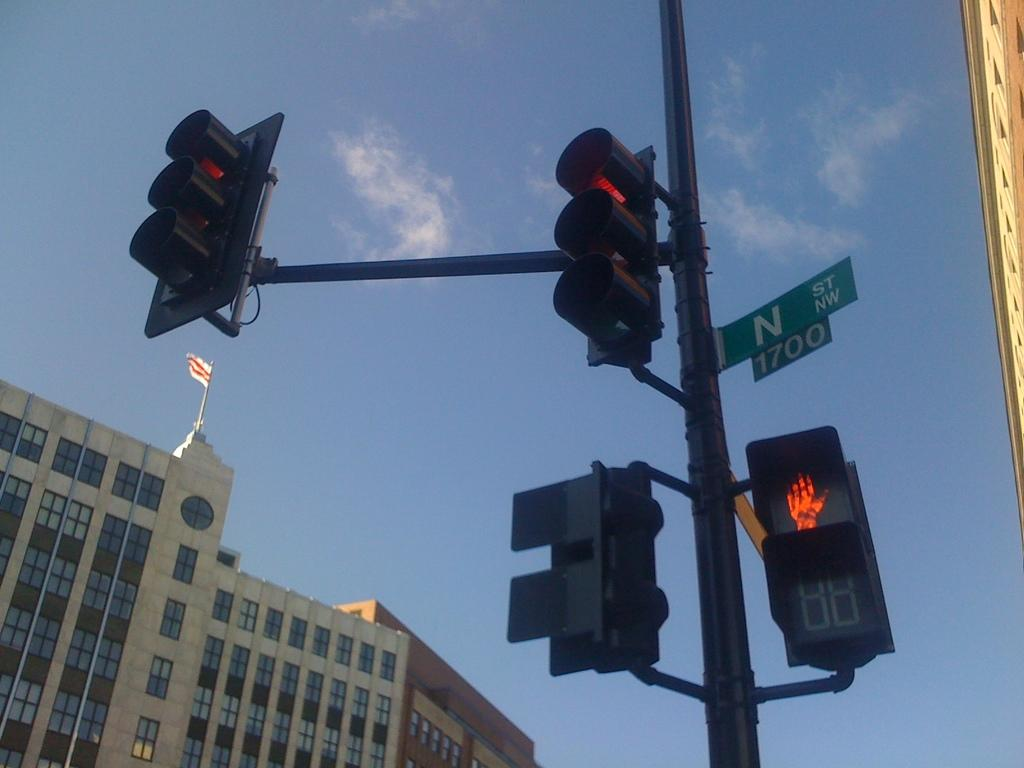red_light: (130, 108, 284, 337), (553, 127, 663, 368)
